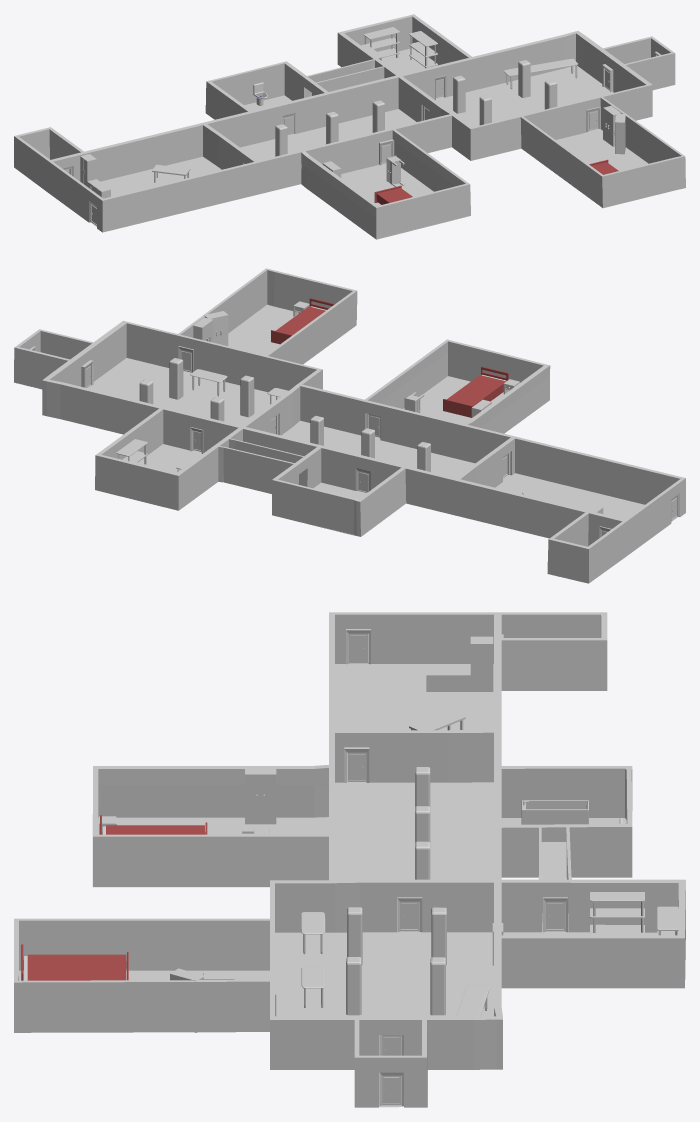
File: FirstMap.fbx
The picture shows the model from 3 angles, top to bottom: view 1: azimuth 30°, elevation 25°; view 2: azimuth 150°, elevation 25°; view 3: azimuth 270°, elevation 25°; orthographic projection. The views are drawn at different scales.
Visible parts, largest first — view 1: Cube, Plane, Cube.057, Cube.062, Cube.046, Cube.029, Cube.024, Cube.068, Cube.070, Cube.015, Cube.028, Cube.002 (+5 smaller); view 2: Cube, Plane, Cube.024, Cube.012, Cube.069, Cube.071, Cube.028, Cube.057; view 3: Cube, Plane, Cube.012, Cube.027, Cube.031, Cube.054, Cube.015, Cube.024, Cube.016, Cube.070, Cube.071, Cube.046 (+2 smaller).
Part boxes in pixels (x1=…): Cube: x1=14, y1=14, x2=685, y2=239; Plane: x1=91, y1=48, x2=648, y2=237; Cube.057: x1=409, y1=31, x2=437, y2=68; Cube.062: x1=363, y1=27, x2=399, y2=57; Cube.046: x1=504, y1=58, x2=577, y2=89; Cube.029: x1=603, y1=105, x2=621, y2=146; Cube.024: x1=374, y1=185, x2=412, y2=204; Cube.068: x1=453, y1=75, x2=465, y2=113; Cube.070: x1=518, y1=60, x2=530, y2=97; Cube.015: x1=80, y1=154, x2=96, y2=186; Cube.028: x1=614, y1=113, x2=625, y2=154; Cube.002: x1=386, y1=155, x2=404, y2=186; Cube: x1=14, y1=268, x2=685, y2=583; Plane: x1=87, y1=304, x2=677, y2=583; Cube.024: x1=443, y1=366, x2=508, y2=417; Cube.012: x1=271, y1=298, x2=334, y2=344; Cube.069: x1=240, y1=375, x2=254, y2=417; Cube.071: x1=169, y1=358, x2=183, y2=399; Cube.028: x1=204, y1=311, x2=228, y2=345; Cube.057: x1=116, y1=439, x2=147, y2=464; Cube: x1=14, y1=612, x2=685, y2=1107; Plane: x1=19, y1=663, x2=657, y2=1107; Cube.012: x1=21, y1=944, x2=128, y2=980; Cube.027: x1=245, y1=768, x2=276, y2=824; Cube.031: x1=521, y1=800, x2=588, y2=824; Cube.054: x1=590, y1=892, x2=644, y2=933; Cube.015: x1=470, y1=636, x2=493, y2=691; Cube.024: x1=100, y1=815, x2=207, y2=834; Cube.016: x1=426, y1=668, x2=471, y2=691; Cube.070: x1=430, y1=957, x2=445, y2=1015; Cube.071: x1=346, y1=957, x2=361, y2=1015; Cube.046: x1=456, y1=985, x2=489, y2=1016.
Size of the model in its own units: 5272 by 3361 by 311.
